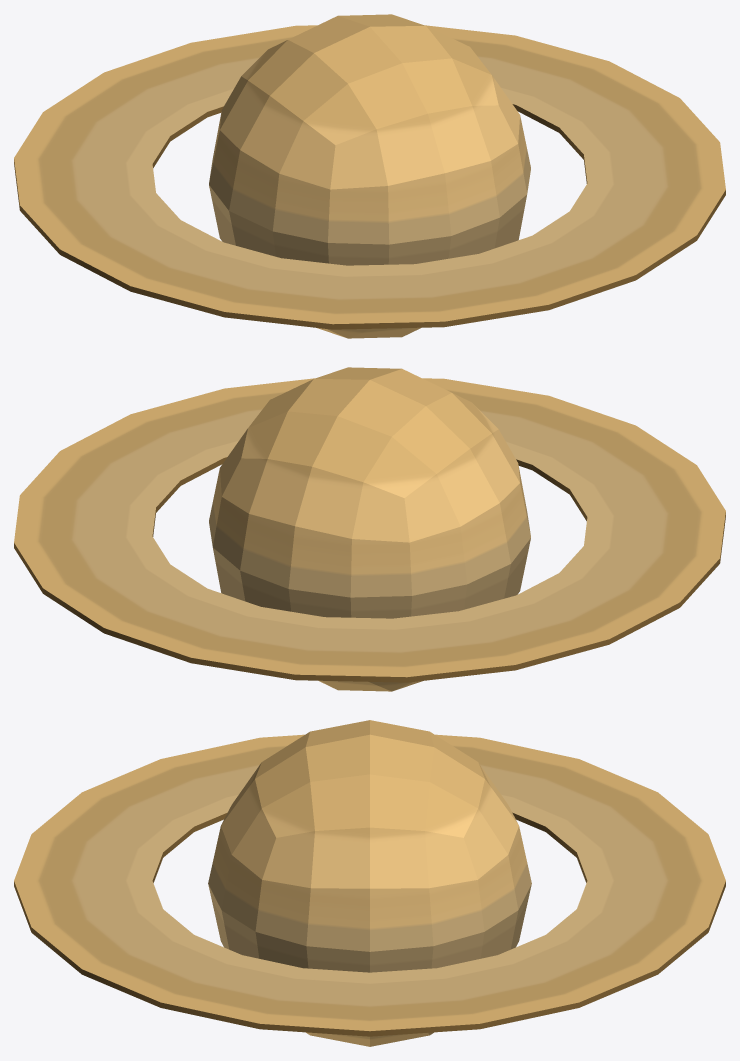
The model's file is SM_Env_Scale_Saturn_01.fbx.
3 views of the same model, one above another, from view 1: azimuth 30°, elevation 25°; view 2: azimuth 150°, elevation 25°; view 3: azimuth 270°, elevation 25° (orthographic).
Parts seen in each view (by area): view 1: SM_Env_Scale_Saturn_01; view 2: SM_Env_Scale_Saturn_01; view 3: SM_Env_Scale_Saturn_01.
Boxes of the visible parts, box(x1,y1,x2,y2) form: SM_Env_Scale_Saturn_01: box(14, 14, 725, 338); SM_Env_Scale_Saturn_01: box(14, 367, 725, 691); SM_Env_Scale_Saturn_01: box(14, 720, 725, 1046).
Size of the model in its own units: 45.78 by 21.12 by 45.78.
